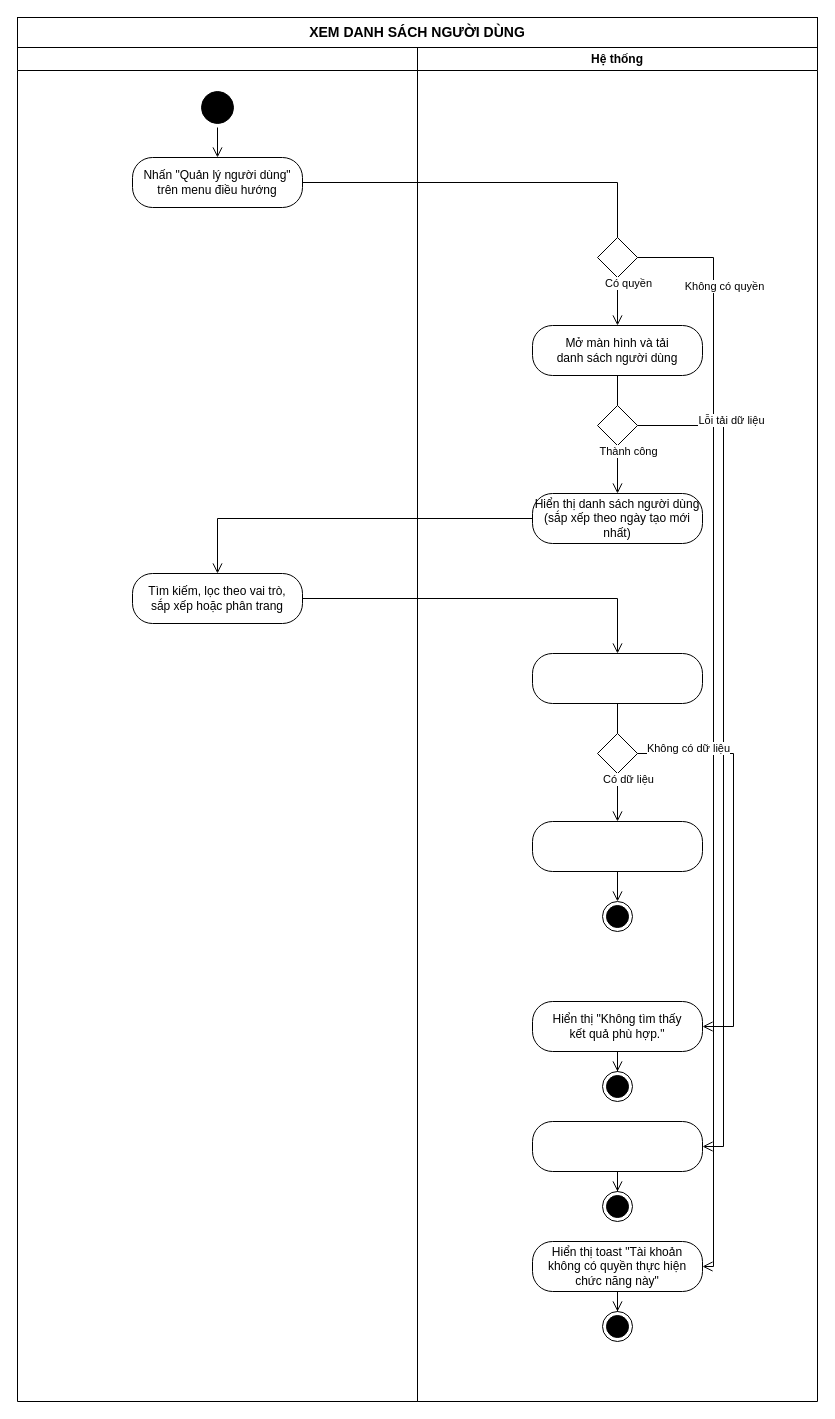
This 835x1419 diagram has some shape labels left out. Each missing label, with the box of its shape:
Cập nhật bảng dữ liệu tương ứng: (532, 652, 702, 704)
Ghi nhận lỗi, giữ màn hình hiện tại: (532, 1120, 702, 1172)
Hiển thị bảng dữ liệu kết quả: (532, 820, 702, 872)
Quản trị viên: (16, 46, 418, 1402)
